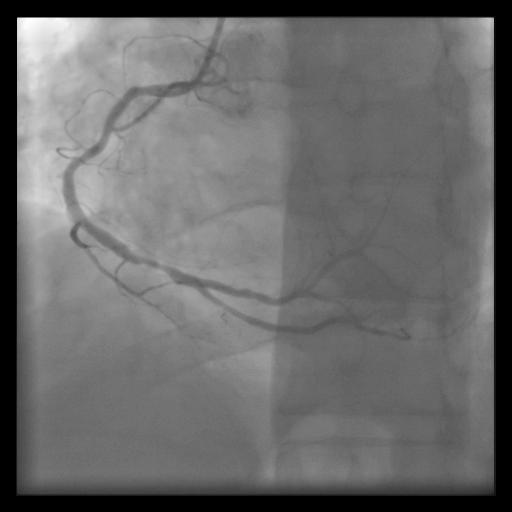Stenosis: (135, 245, 177, 285)
